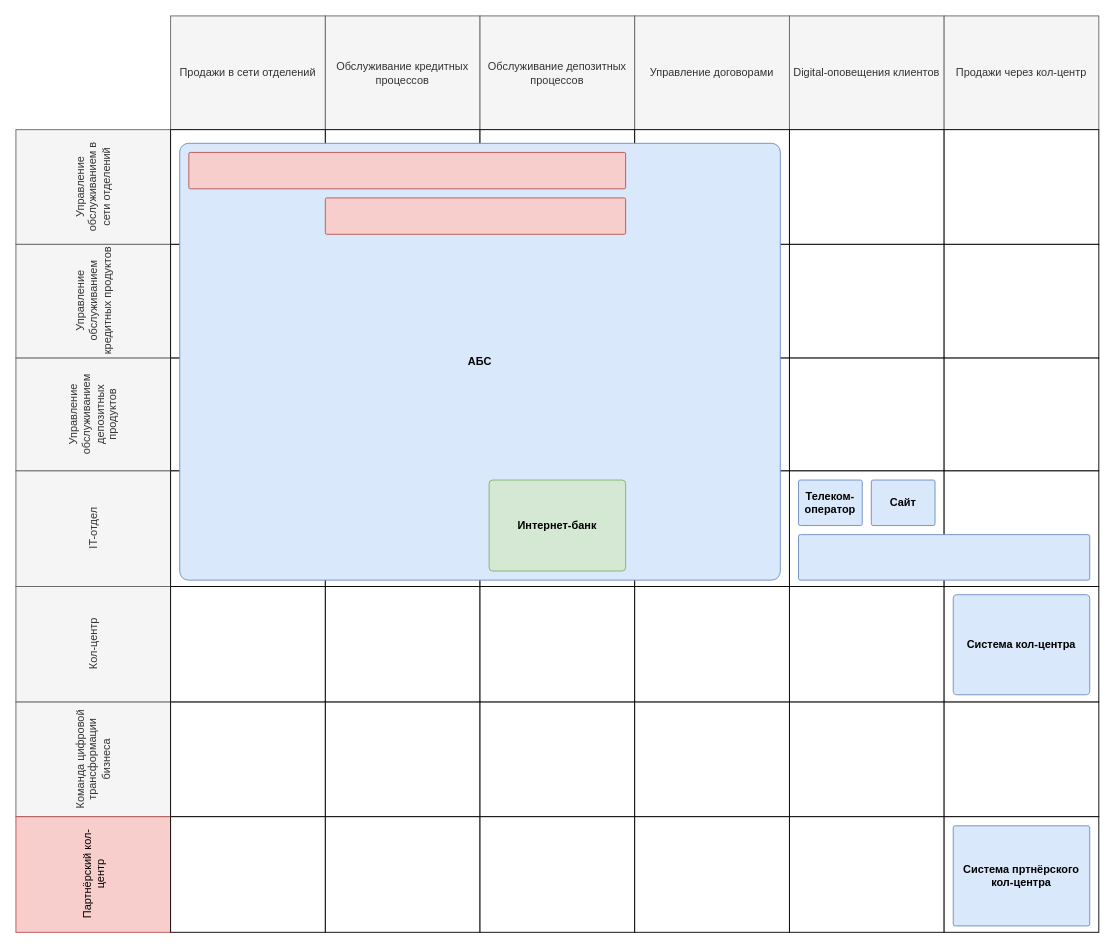
This 1115x948 diagram has some shape labels left out. The centre of each missing label's shape, as x and y in pixels:
"Почтовый сервис" goes at point (475, 215).
"Рассчётные Excel-книги" goes at point (407, 170).
"СМС-шлюз телеком-оператора" goes at point (944, 557).
